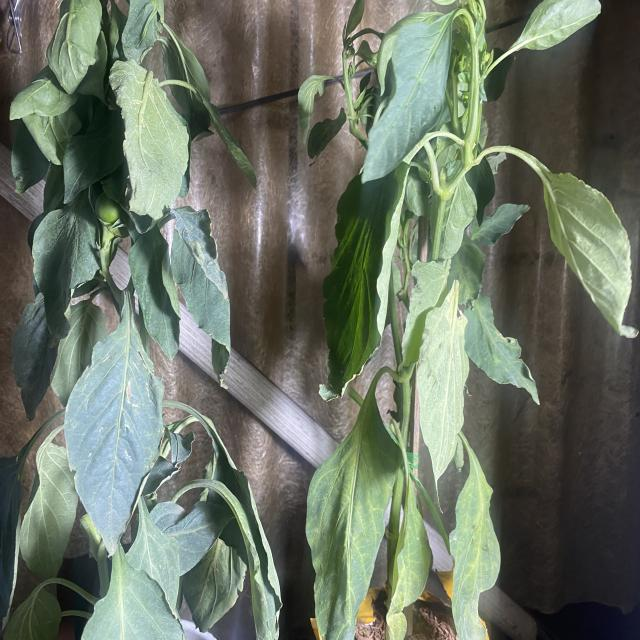Leaf: (64, 328, 163, 558), (306, 430, 400, 638), (544, 170, 639, 340), (362, 21, 451, 182), (110, 58, 189, 219), (418, 283, 467, 504), (31, 197, 100, 346)
